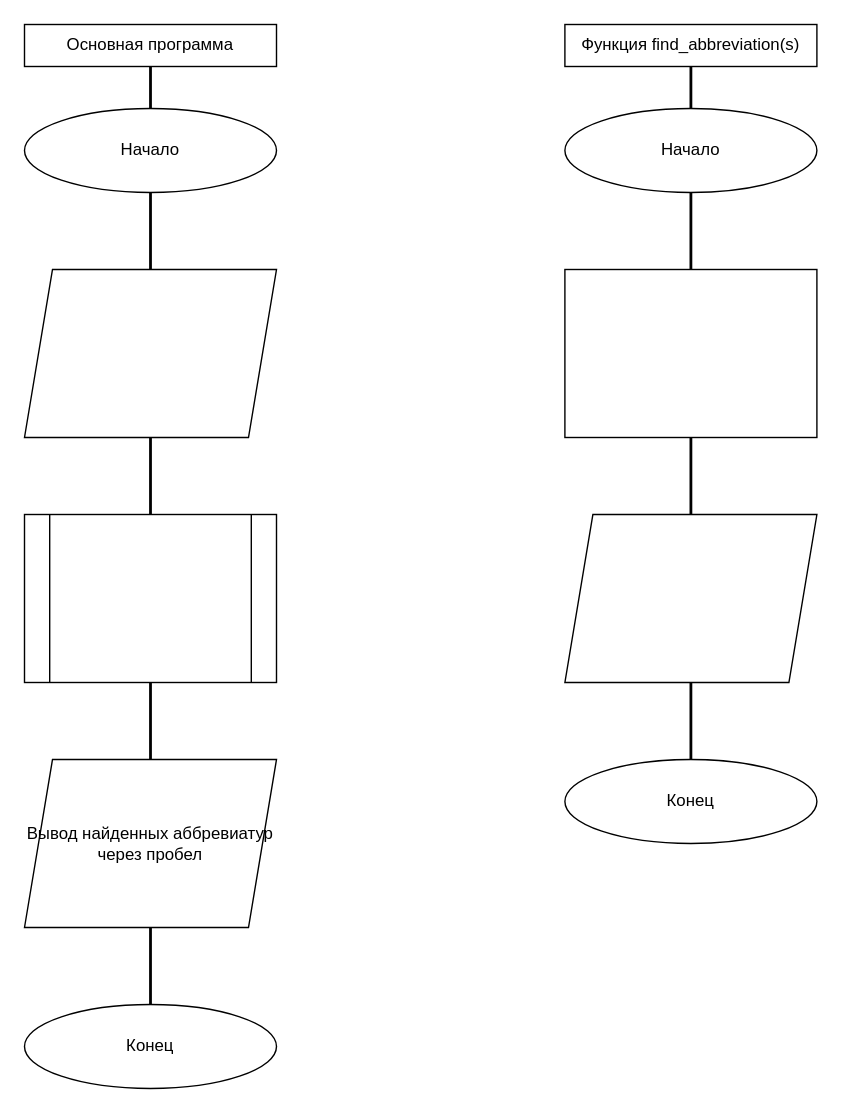
The diagram is 841 pixels wide and 1113 high, and some of its shapes have lost their labels. The shapes that lost their labels are listed below. From the top down, each one's centre as x and y in pixels, then its label:
(x=149, y=353): Ввод строки
(x=690, y=353): Находим все слова из 2–6 заглавных букв
(x=149, y=597): Вызов find_abbreviation для строки
(x=690, y=597): Возврат списка найденных слов
